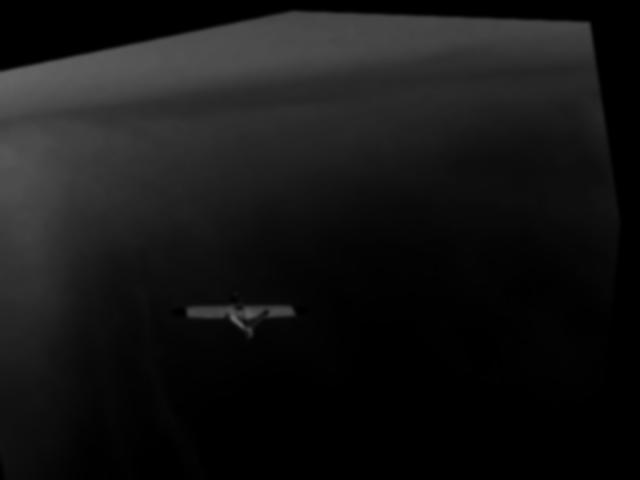hedef: (163, 255, 342, 380)
